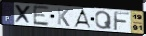A: (73, 9, 92, 29)
E: (33, 5, 51, 27)
F: (113, 11, 131, 32)
K: (57, 7, 71, 27)
Q: (94, 10, 113, 30)
X: (14, 4, 33, 25)
